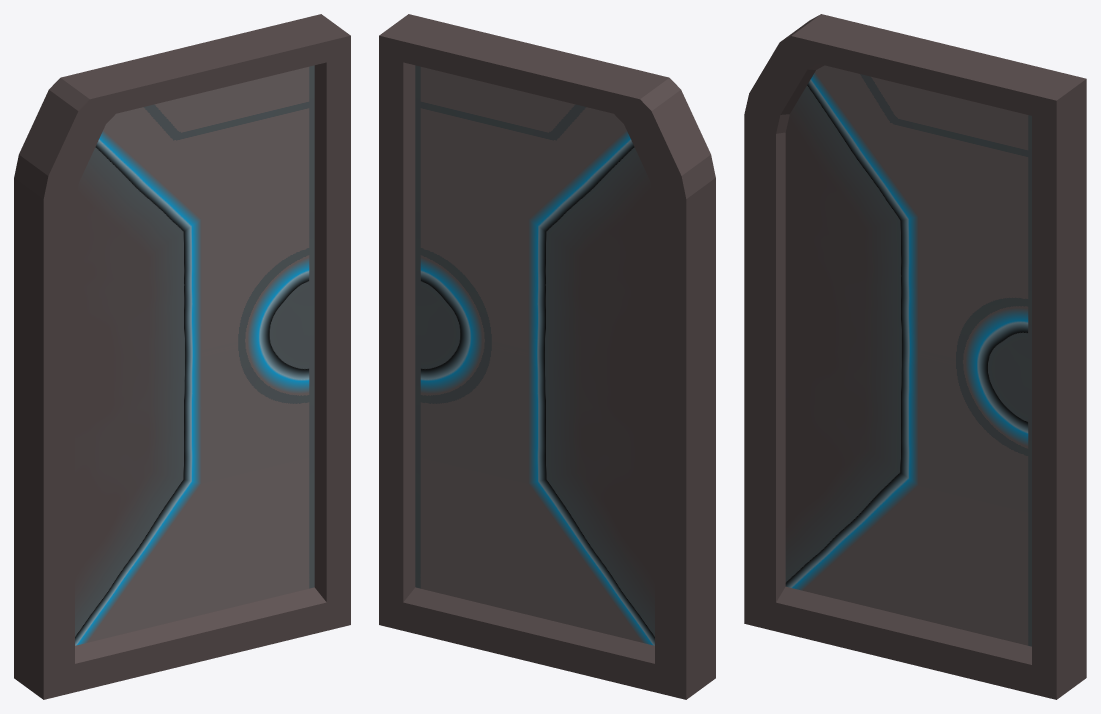
File: Door.glb
The picture shows the model from 3 angles, left to right: view 1: azimuth 30°, elevation 25°; view 2: azimuth 150°, elevation 25°; view 3: azimuth 330°, elevation 25°; orthographic projection.
Parts seen in each view (by area): view 1: Door; view 2: Door; view 3: Door.
Part boxes in pixels (x1,y1,x2,y2): Door: (14,14,350,699); Door: (379,14,715,699); Door: (744,14,1086,699).
Bounding box in the file's own units: 3 × 5.5 × 0.5.
Materials: 1 (1 with a texture image).
